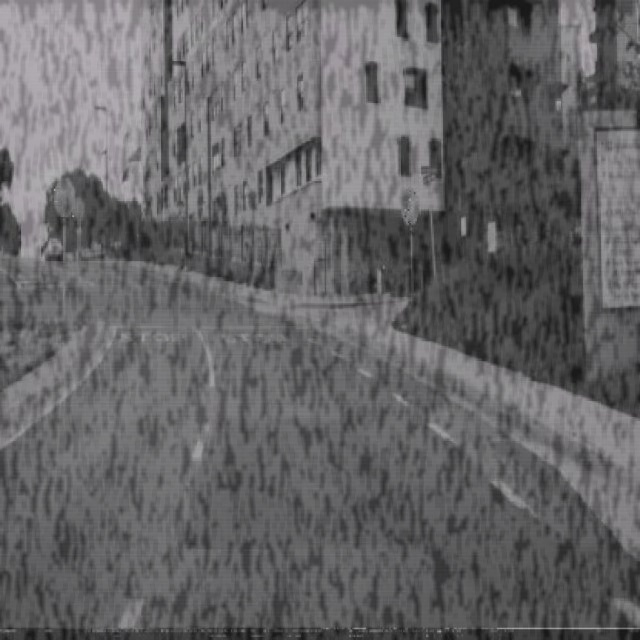stop: (54, 176, 76, 218), (402, 184, 420, 226)
